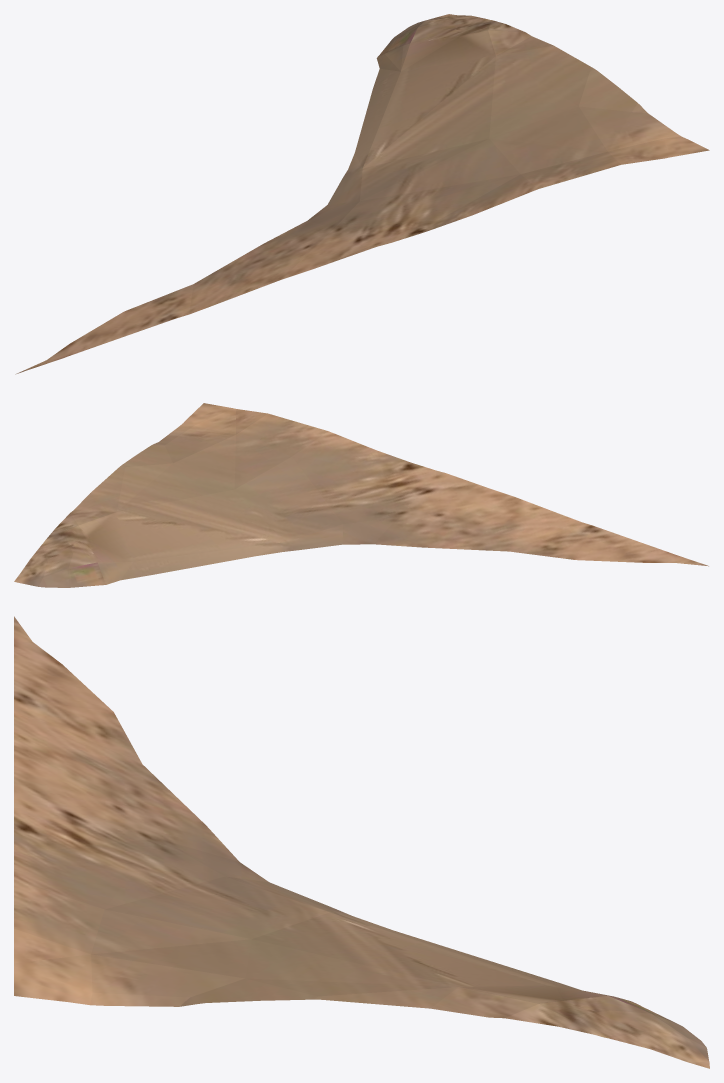
The picture shows the model from 3 angles, top to bottom: view 1: azimuth 30°, elevation 25°; view 2: azimuth 150°, elevation 25°; view 3: azimuth 270°, elevation 25°; orthographic projection. The views are drawn at different scales.
Bounding box in the file's own units: 1.72 × 0.1458 × 1.11.
1 material, 1 textured.
